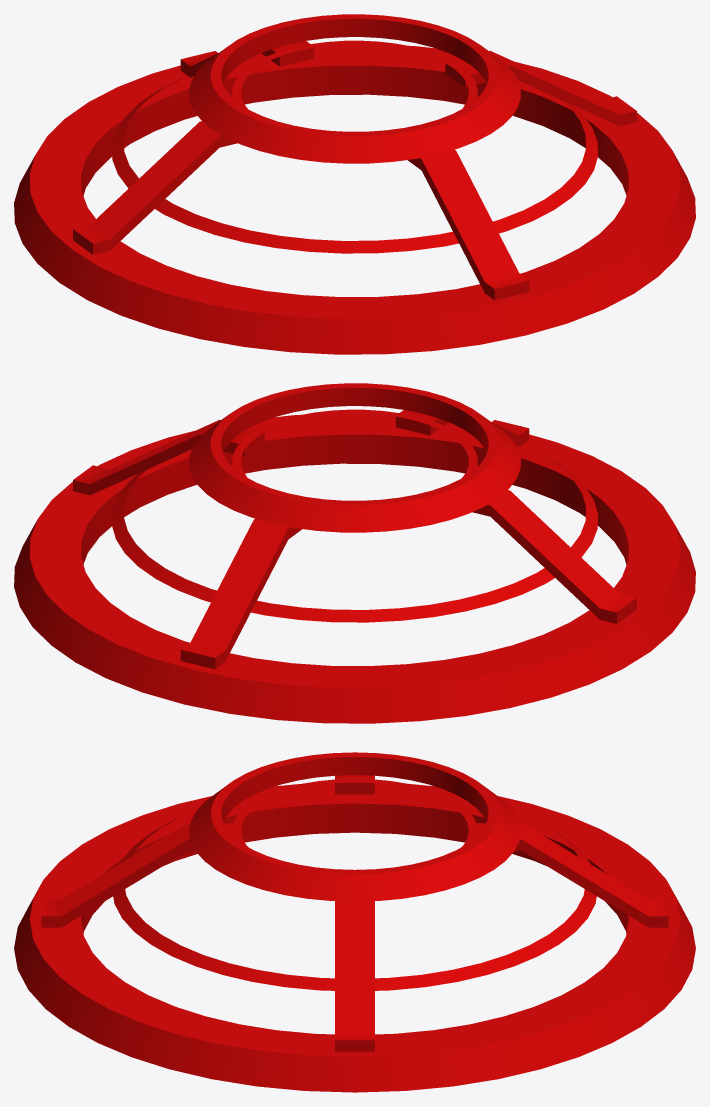
3 views of the same model, one above another, from view 1: azimuth 30°, elevation 25°; view 2: azimuth 150°, elevation 25°; view 3: azimuth 270°, elevation 25° (orthographic).
Visible parts, largest first — view 1: Mesh; view 2: Mesh; view 3: Mesh.
Part boxes in pixels (<box>): Mesh: <box>14,14,695,354</box>; Mesh: <box>14,383,695,723</box>; Mesh: <box>14,752,695,1092</box>.
Size of the model in its own units: 4.82 by 1.05 by 4.82.
